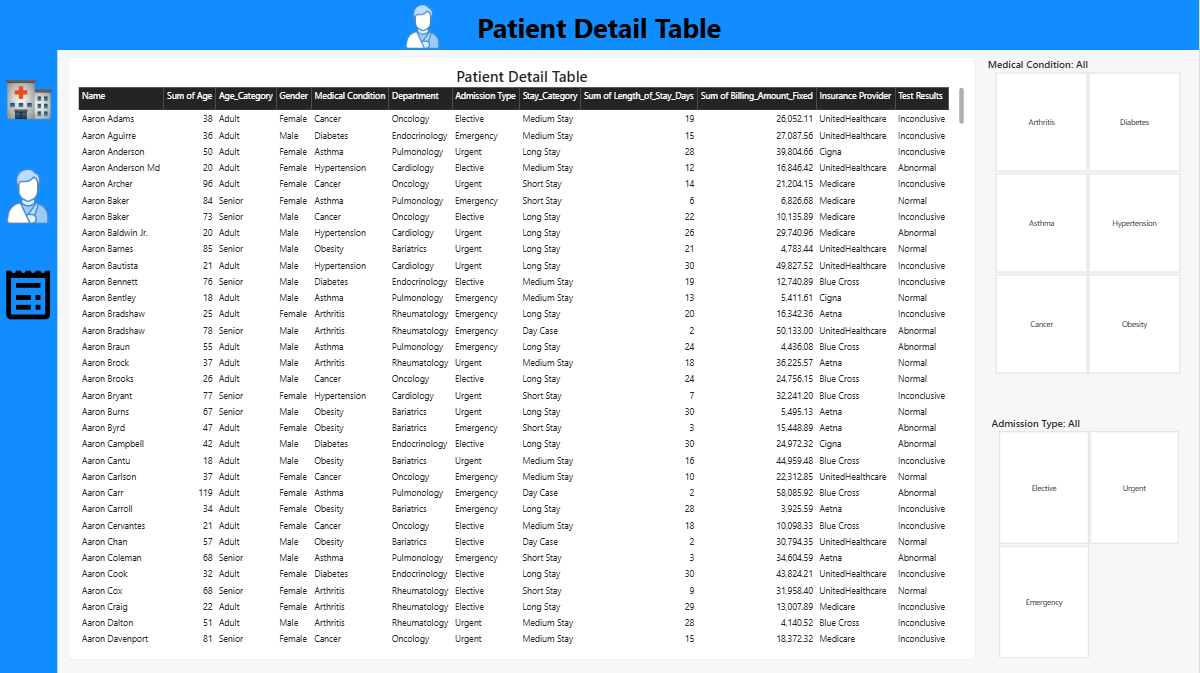

What the dashboard file says about the page in this screenshot:
{"tool":"powerbi","page":{"name":"Patient Detail Table","canvas":[1920,1080],"ordinal":1},"visuals":[{"type":"shape","box":[0,0,93.3,1080],"z":0},{"type":"shape","box":[0,0,1920,83.3],"z":1000},{"type":"image","box":[611.7,8.3,133.3,75],"z":2000},{"type":"textbox","box":[570,18.3,780,75],"z":3000},{"type":"image","box":[0,93.3,93.3,130],"z":4000},{"type":"image","box":[0,251.7,93.3,130],"z":5000},{"type":"image","box":[0,410,93.3,130],"z":6000},{"type":"tableEx","title":"Patient Detail Table","fields":{"Values":["healthcare_dataset.Name","Sum(healthcare_dataset.Age)","healthcare_dataset.Age_Category","healthcare_dataset.Gender","healthcare_dataset.Medical Condition","Department.Department","healthcare_dataset.Admission Type","healthcare_dataset.Stay_Category ","Sum(healthcare_dataset.Length_of_Stay_Days )","Sum(healthcare_dataset.Billing_Amount_Fixed)","healthcare_dataset.Insurance Provider","healthcare_dataset.Test Results"]},"box":[110,93.3,1451.7,965],"z":7000},{"type":"slicer","fields":{"Values":["healthcare_dataset.Medical Condition"]},"box":[1573.3,93.3,335,508.3],"z":8000},{"type":"slicer","fields":{"Values":["healthcare_dataset.Admission Type"]},"box":[1580.8,668.3,326.7,390],"z":9000}]}

Visuals, with their boxes in screenshot pixels (x1, y1, x2, y2), scaled from the page's 1920x1080 canvas onto the 1200x673 screenshot:
shape: <box>0,0,58,672</box>
shape: <box>0,0,1199,52</box>
image: <box>382,5,466,52</box>
textbox: <box>356,11,844,58</box>
image: <box>0,58,58,139</box>
image: <box>0,157,58,238</box>
image: <box>0,255,58,336</box>
"Patient Detail Table" tableEx: <box>69,58,976,659</box>
slicer - healthcare_dataset.Medical Condition: <box>983,58,1193,375</box>
slicer - healthcare_dataset.Admission Type: <box>988,416,1192,659</box>
